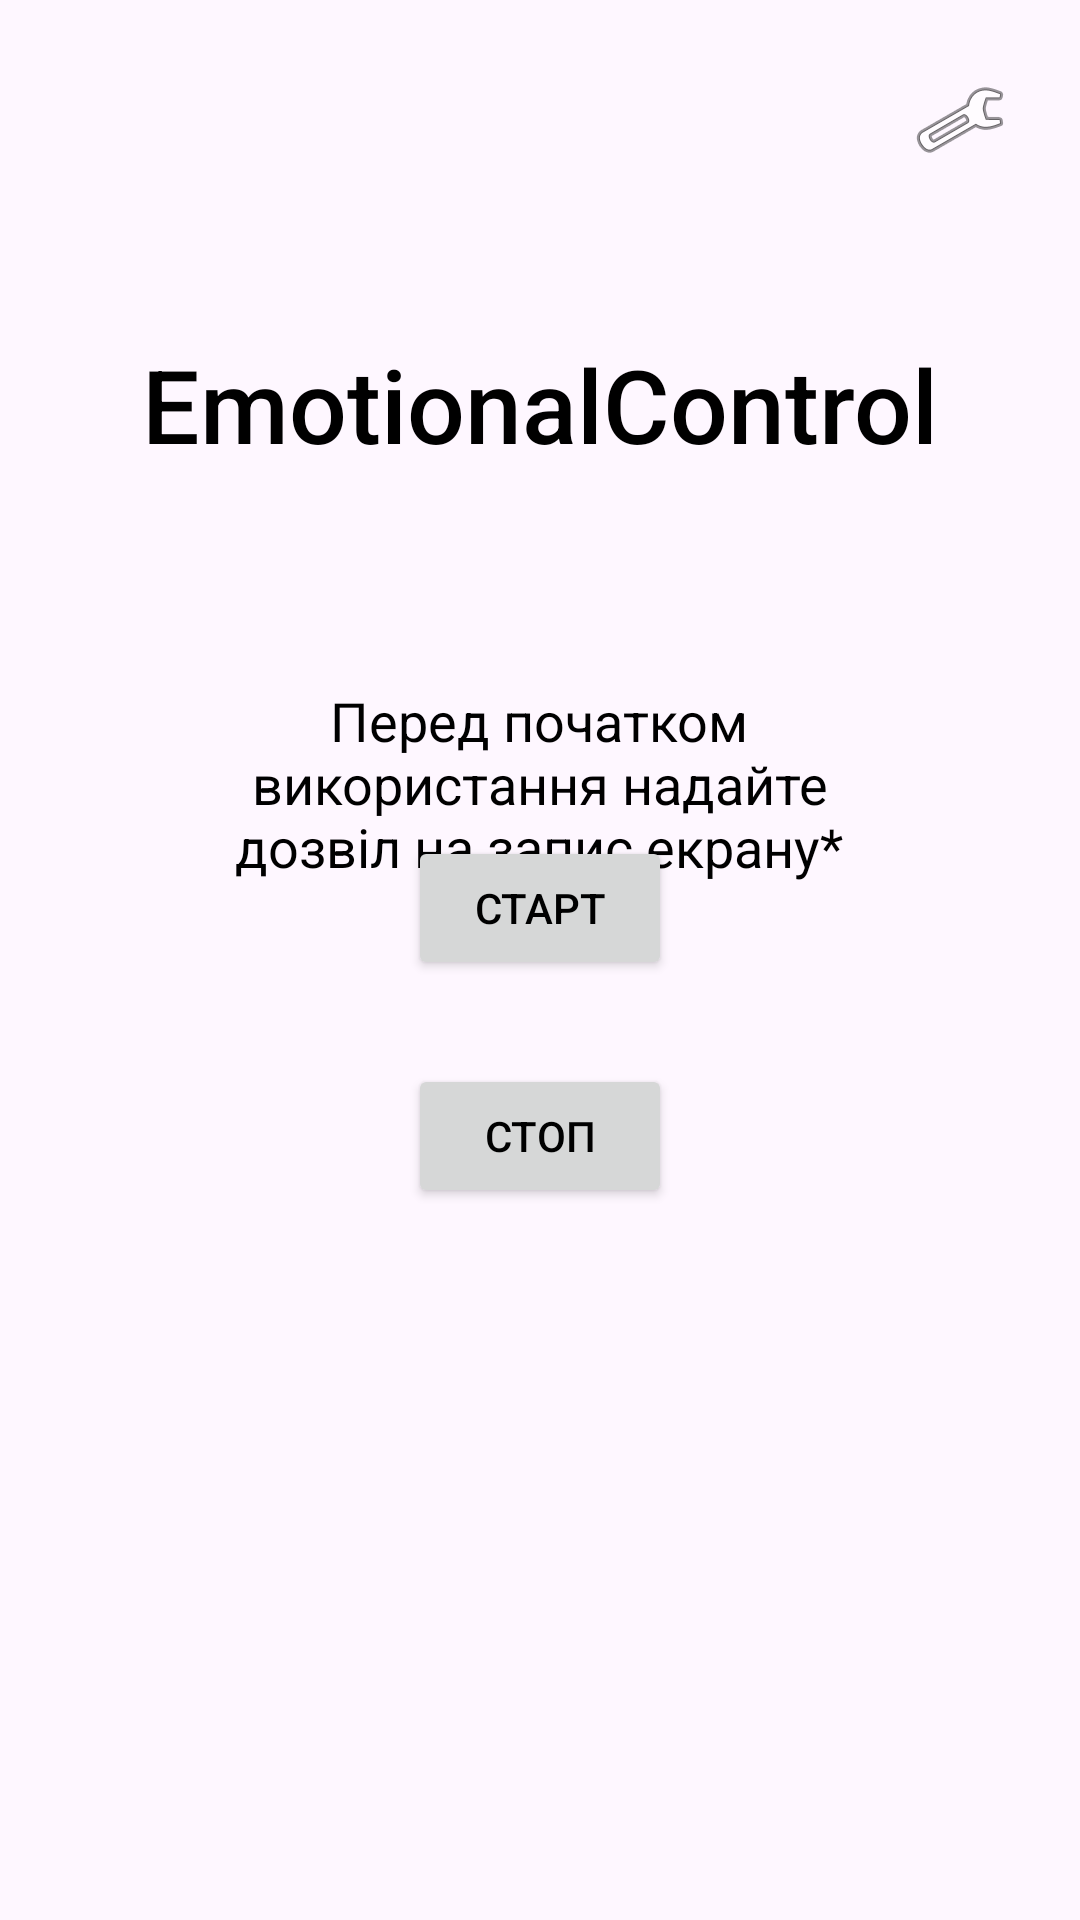

Named icons in this screenshot (1080w x 1920h) and their bounding boxes, (x1, y1, x2, y2):
Настройки: (917, 87, 1003, 153)
